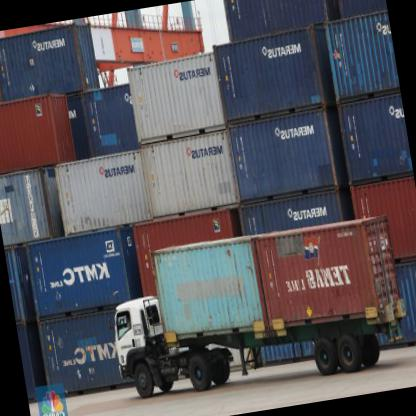truck: (107, 293, 174, 405)
